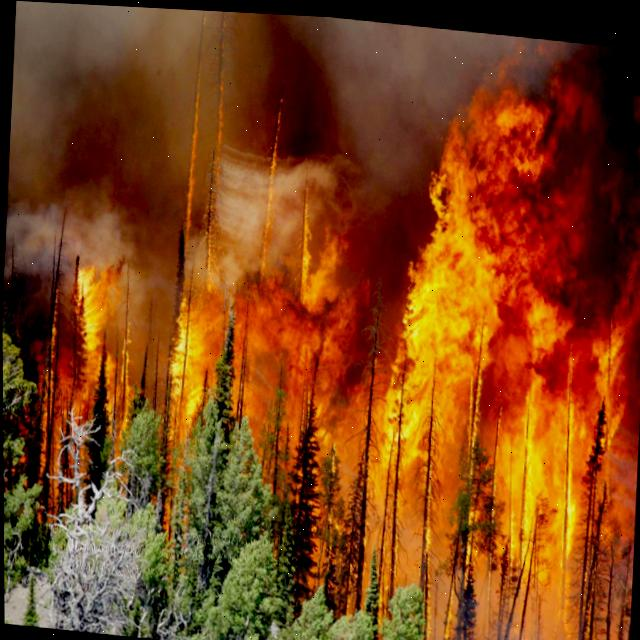fire: (359, 82, 640, 588), (171, 273, 347, 442), (62, 266, 110, 417)
smoke: (5, 1, 416, 276)
